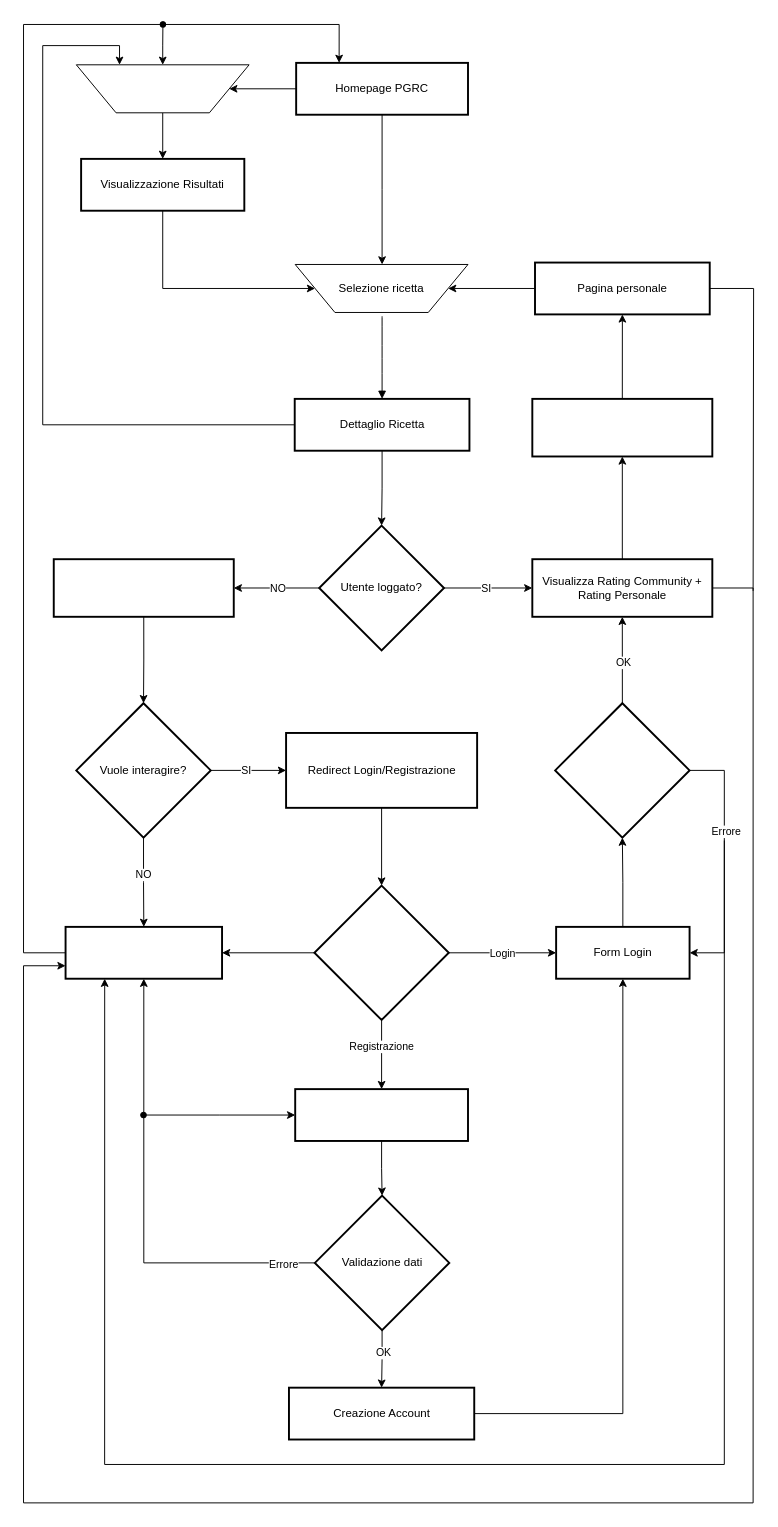
Some shapes in this 778 by 1527 pixel diagram are drawn without their labels. Here are the shapes that lost their labels. From the top down, the centre of each, then its label:
point 162,88: Ricerca ricette
point 622,427: Accede a contenuti e funzioni riservate
point 143,587: Visualizza Rating Community
point 622,770: Autenticazione
point 143,952: Continua navigazione
point 381,1114: Form Registrazione
